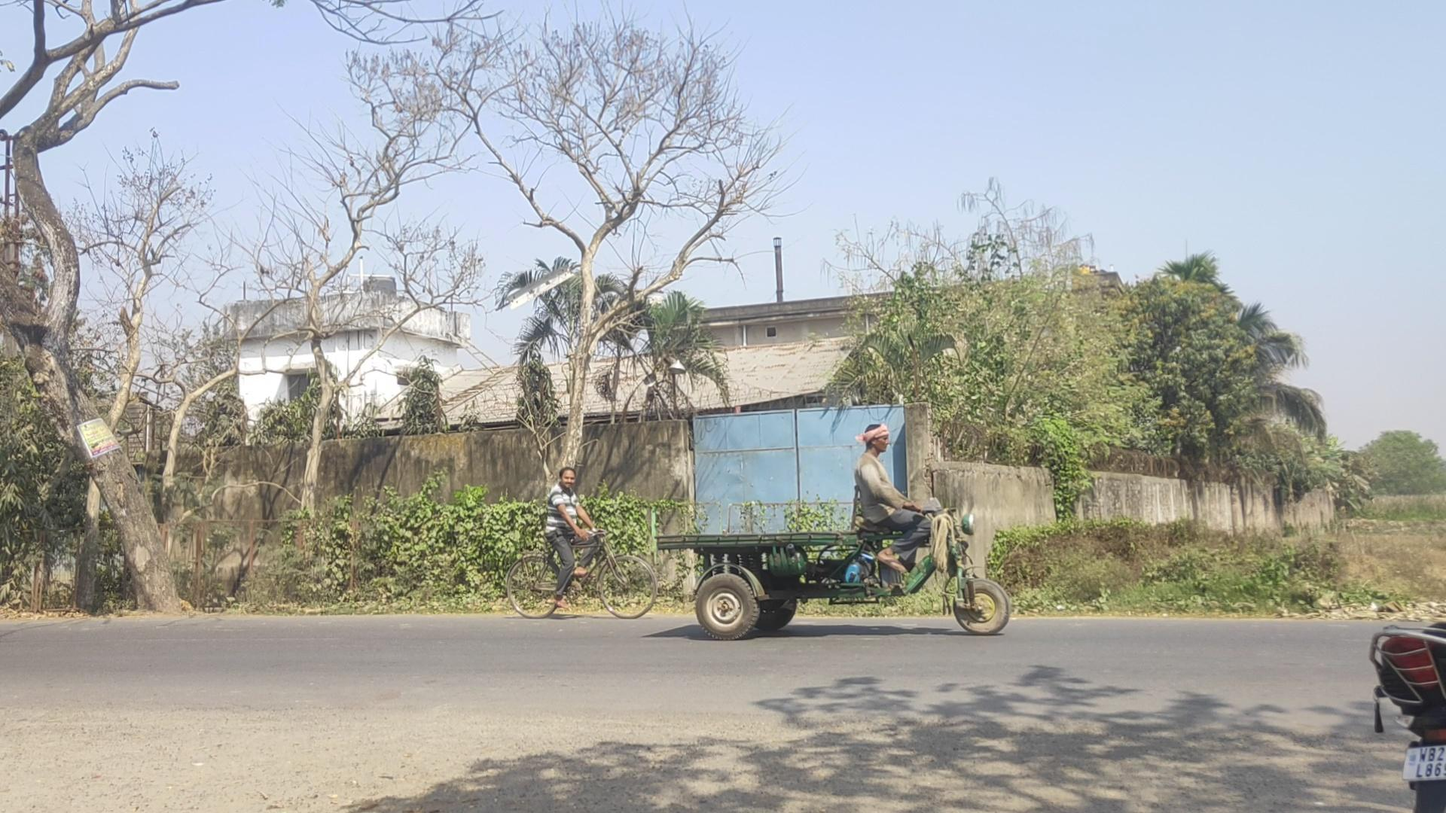bike: (505, 468, 657, 620)
